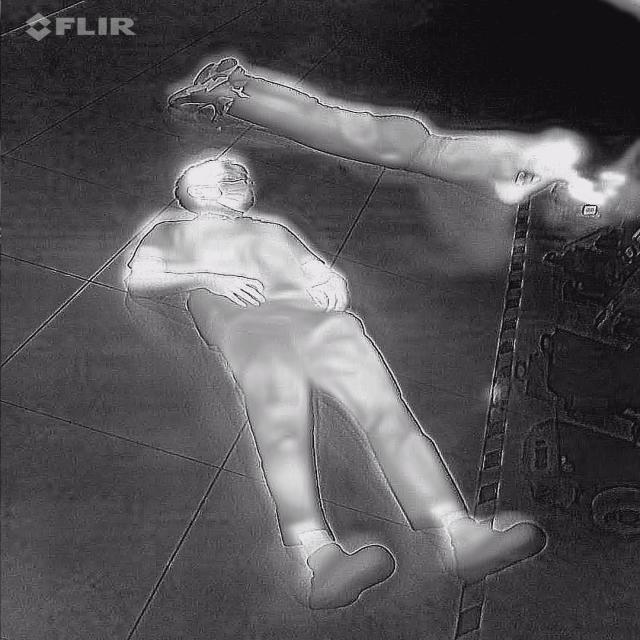Victim: (95, 141, 555, 614), (143, 42, 593, 220)
